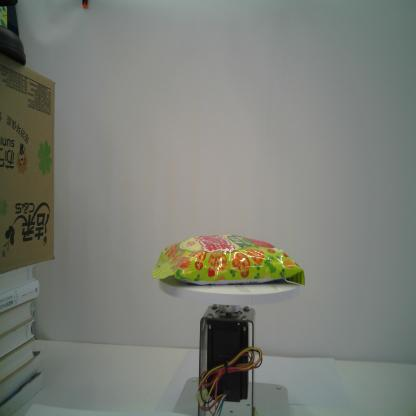Puffed Food: (152, 232, 307, 288)
